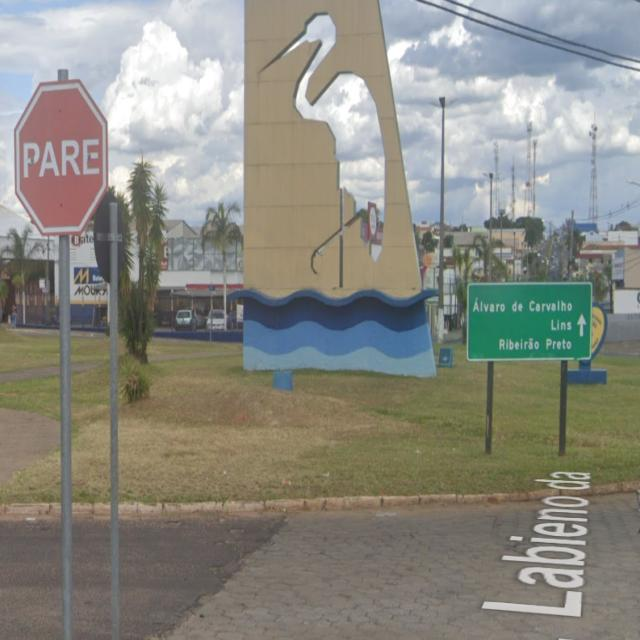indication: (462, 274, 599, 375)
stop: (6, 74, 115, 249)
